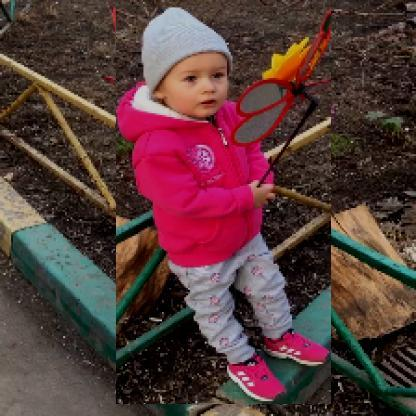child: (117, 8, 333, 406)
